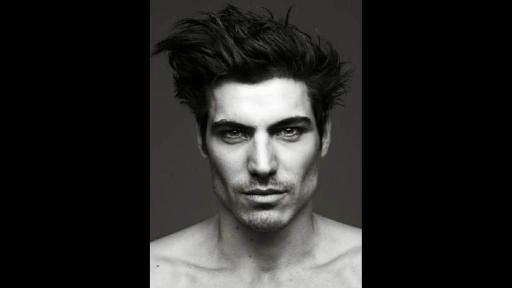left_eye: (275, 125, 304, 139)
left_lip_corner: (281, 189, 295, 199)
right_eye: (218, 129, 247, 141)
right_lip_corner: (234, 190, 249, 201)
